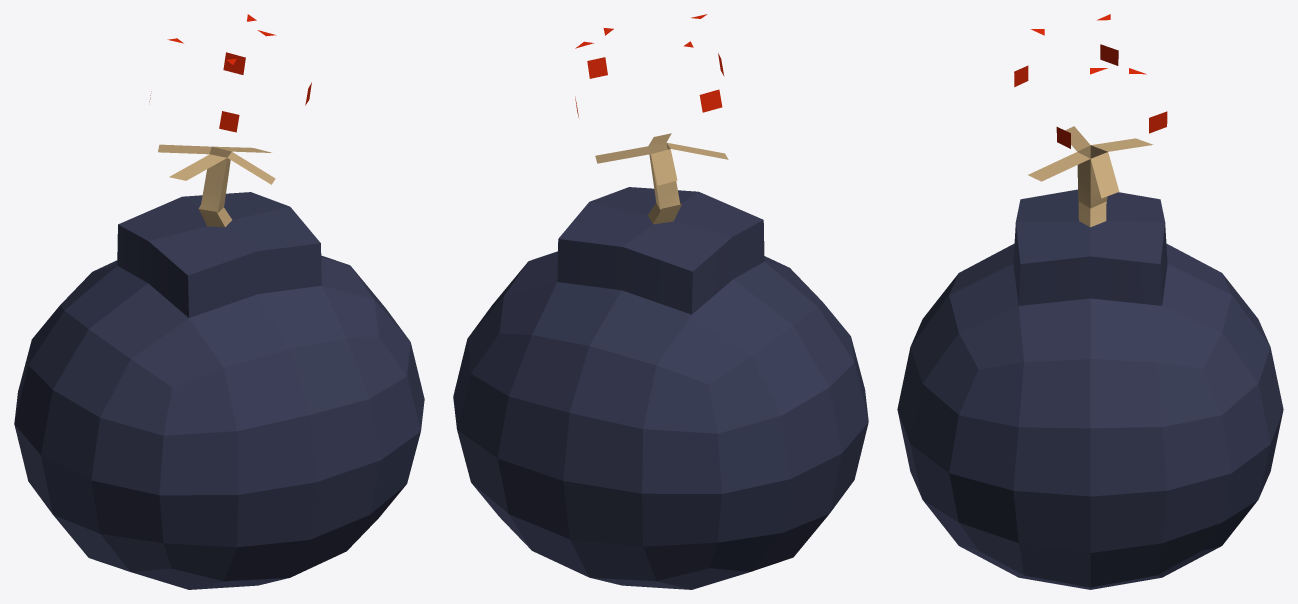
Rendered from Bomb anim.fbx.
The picture shows the model from 3 angles, left to right: view 1: azimuth 30°, elevation 25°; view 2: azimuth 150°, elevation 25°; view 3: azimuth 270°, elevation 25°; orthographic projection.
Visible parts, largest first — view 1: pCube2; view 2: pCube2; view 3: pCube2.
Part boxes in pixels (box(x1,y1,x2,y2)): pCube2: box(14, 14, 424, 589); pCube2: box(453, 14, 868, 589); pCube2: box(897, 14, 1283, 589).
Bounding box in the file's own units: 8.34 × 11.85 × 7.81.
